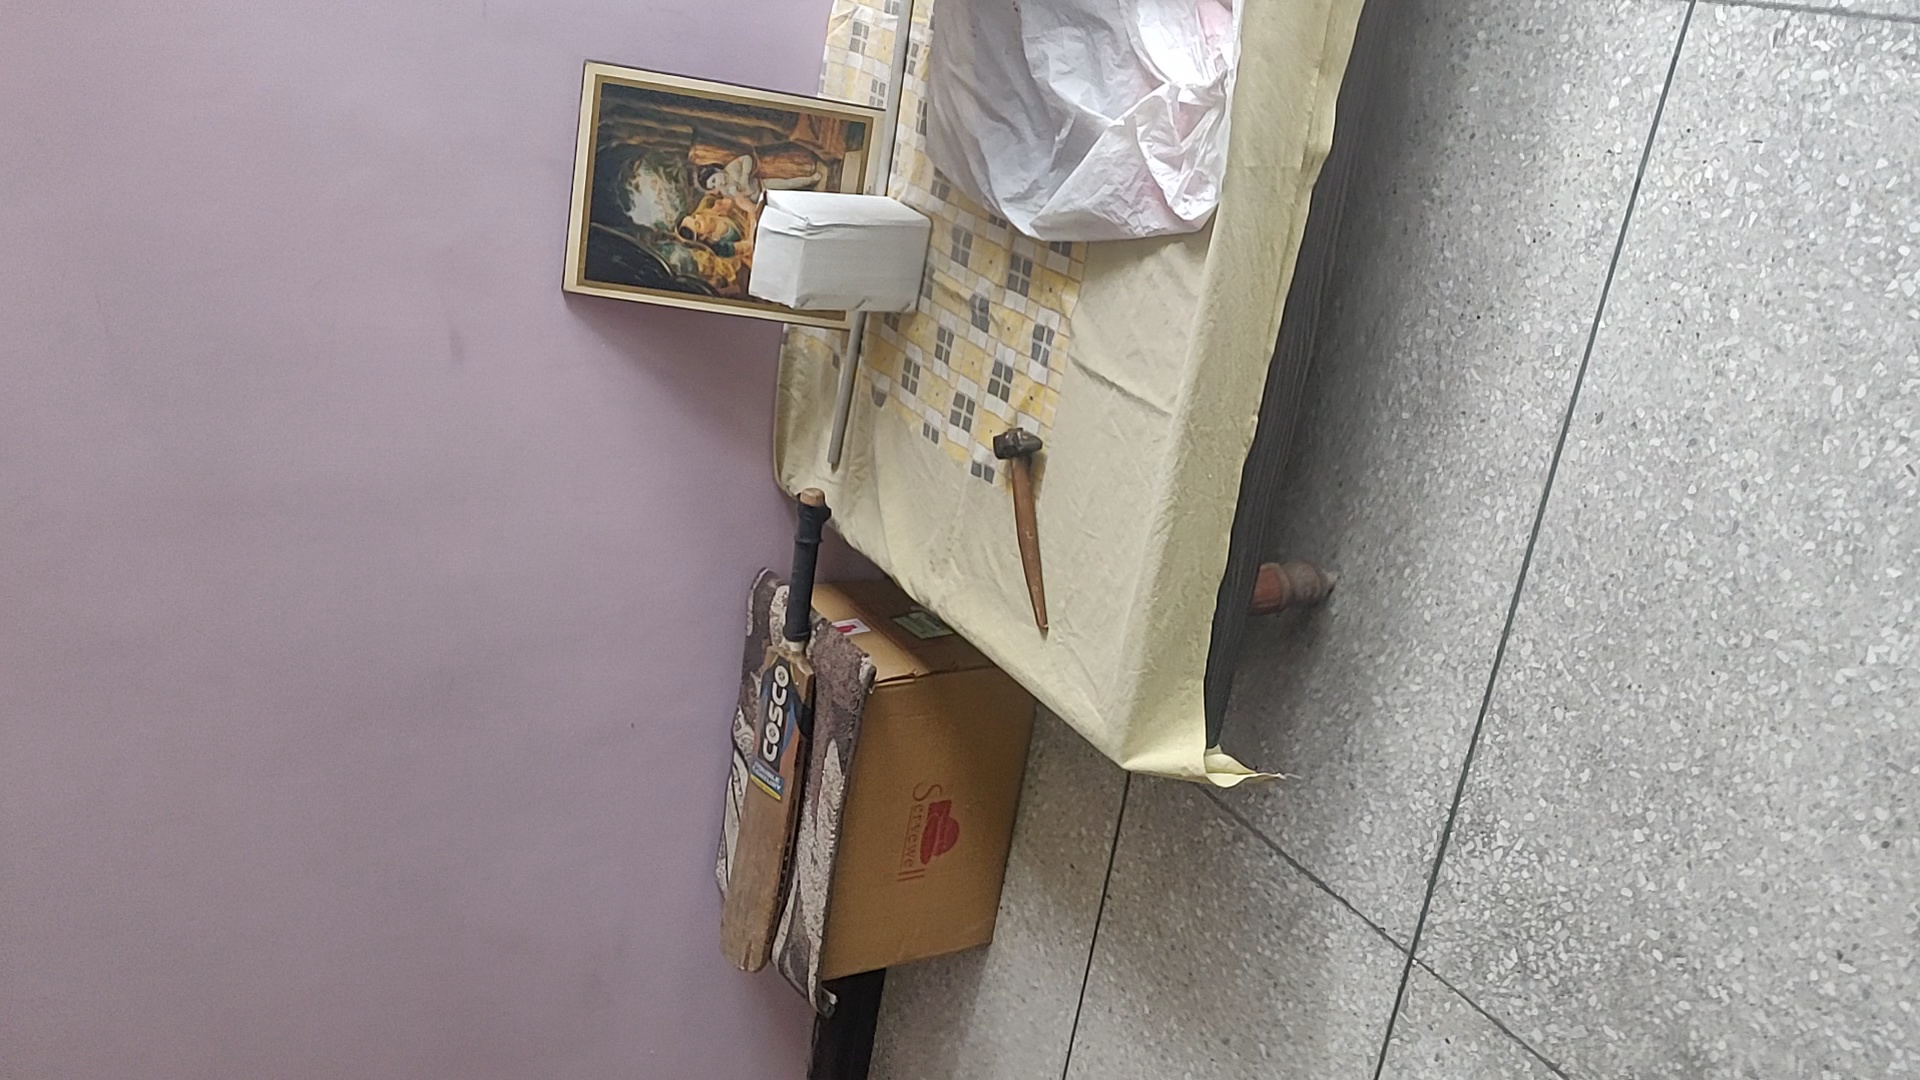hammer: (989, 425, 1054, 634)
